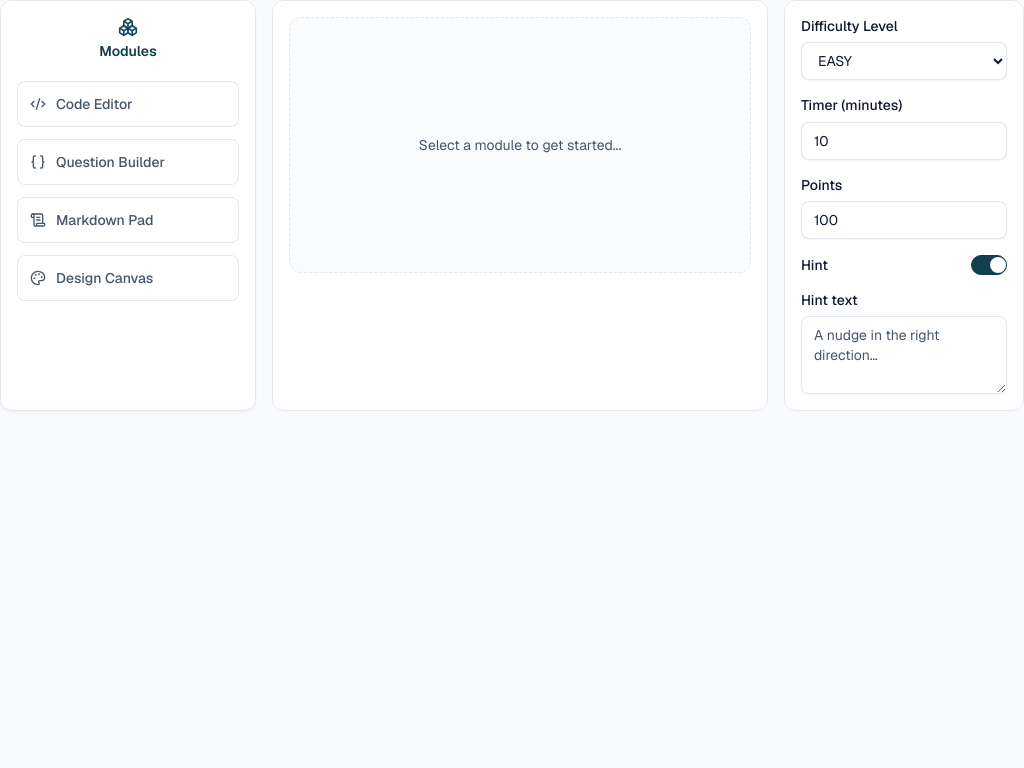
it: WorkspaceStep › converts the question when Markdown Pad or Design Canvas is selected
The image size is (1024, 768).
Step 1. Click the button "Markdown Pad" → (128, 220), box [17,197,239,243]
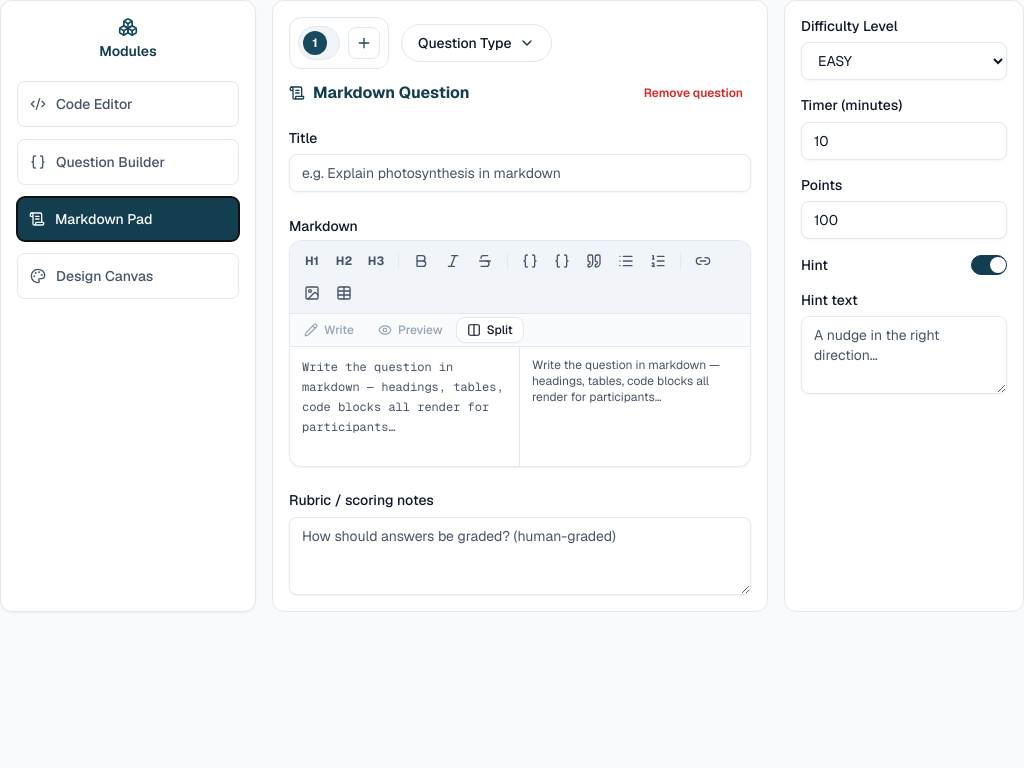
Check: the heading "Markdown Question" is shown, box [289,81,470,105]
Step 2. Click the button "Design Canvas" → (128, 276), box [17,253,239,299]
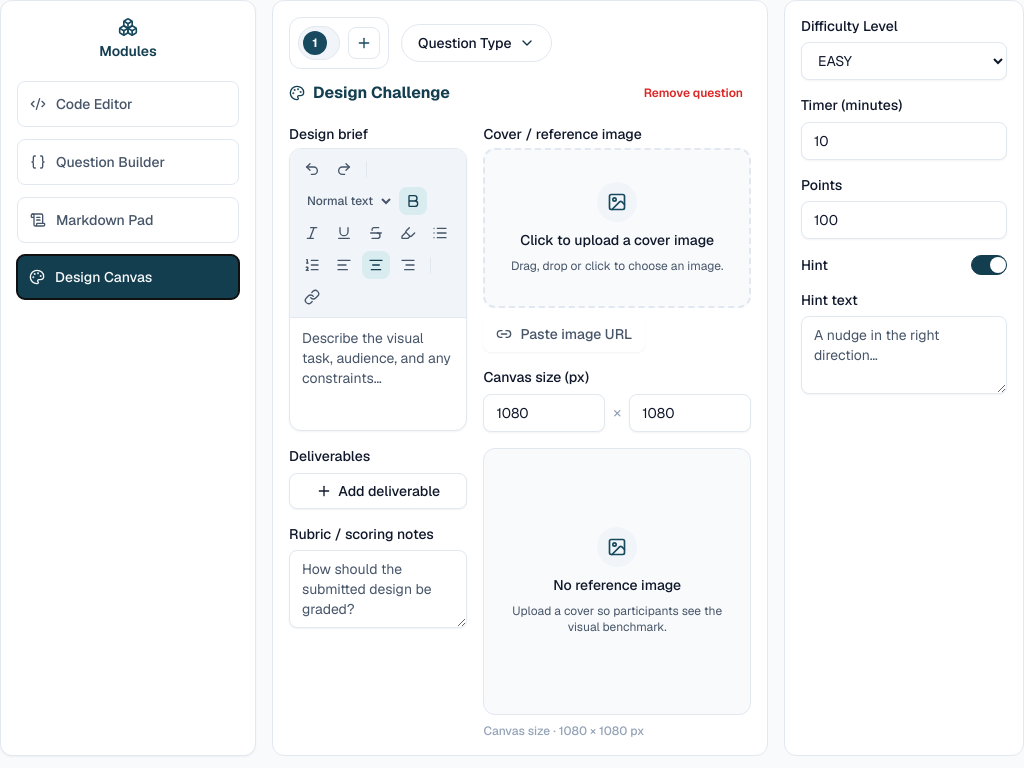
Check: the heading "Design Challenge" is shown, box [289,81,450,105]
